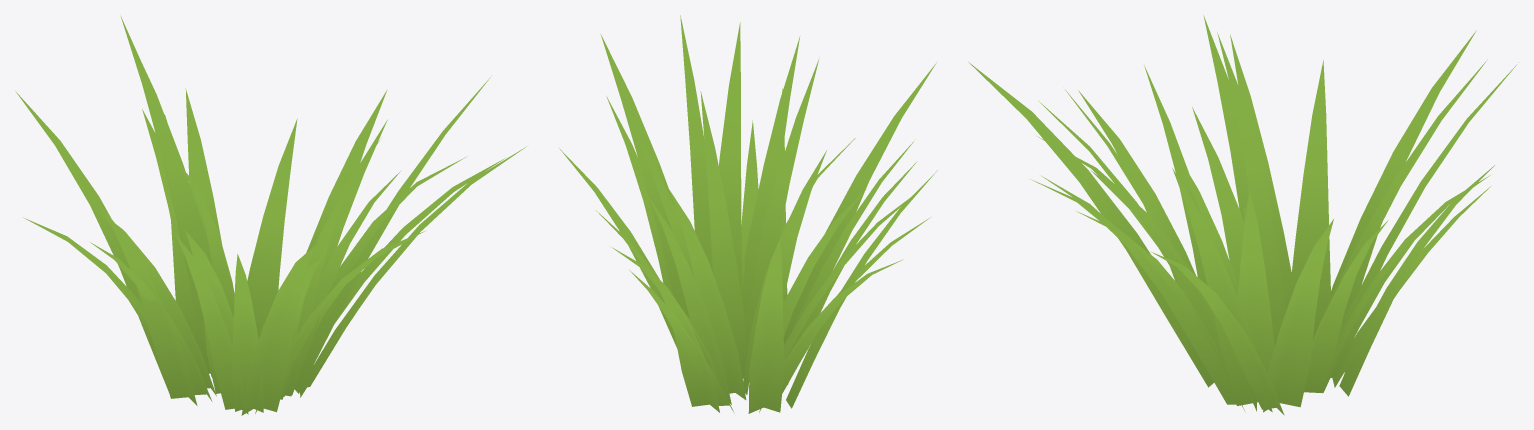
Rendered from grass_tuft1_s15869.gltf.
3 views of the same model, side by side, from view 1: azimuth 30°, elevation 25°; view 2: azimuth 150°, elevation 25°; view 3: azimuth 270°, elevation 25° (orthographic). The views are drawn at different scales.
Parts seen in each view (by area): view 1: grass_tuft1_s15869_blade_LOD0; view 2: grass_tuft1_s15869_blade_LOD0; view 3: grass_tuft1_s15869_blade_LOD0.
Boxes of the visible parts, x1,y1,x2,y2 form: grass_tuft1_s15869_blade_LOD0: (15,16,526,415); grass_tuft1_s15869_blade_LOD0: (559,15,937,413); grass_tuft1_s15869_blade_LOD0: (968,15,1518,415).
Size of what is drawn, in the model's own units: 0.4799 by 0.3411 by 0.5246.
